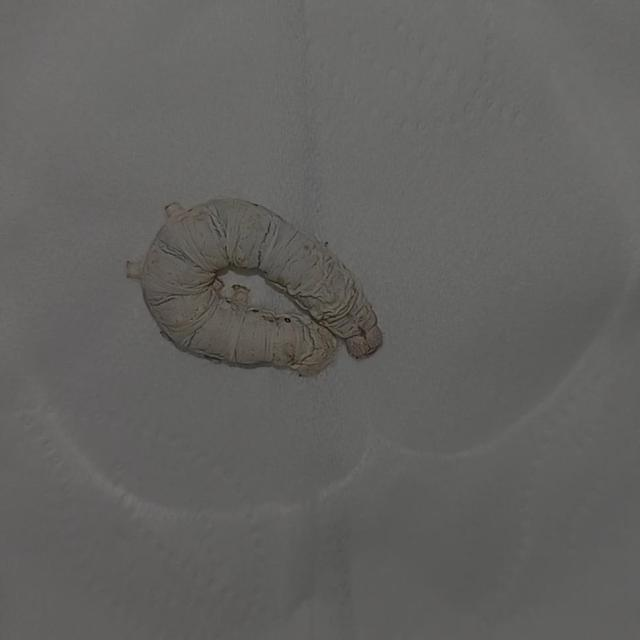Healthy: (118, 179, 395, 390)
